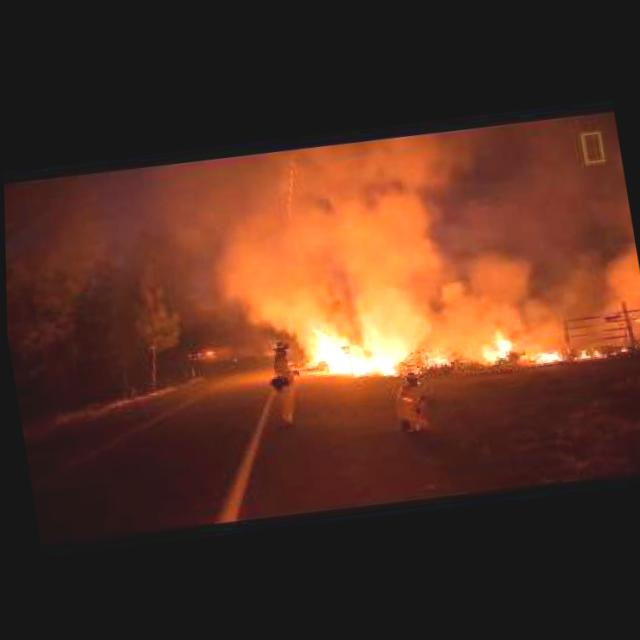helmet: (305, 314, 398, 383), (469, 326, 508, 362), (576, 340, 626, 356), (530, 345, 563, 363)
no_helmet: (201, 86, 640, 364)
